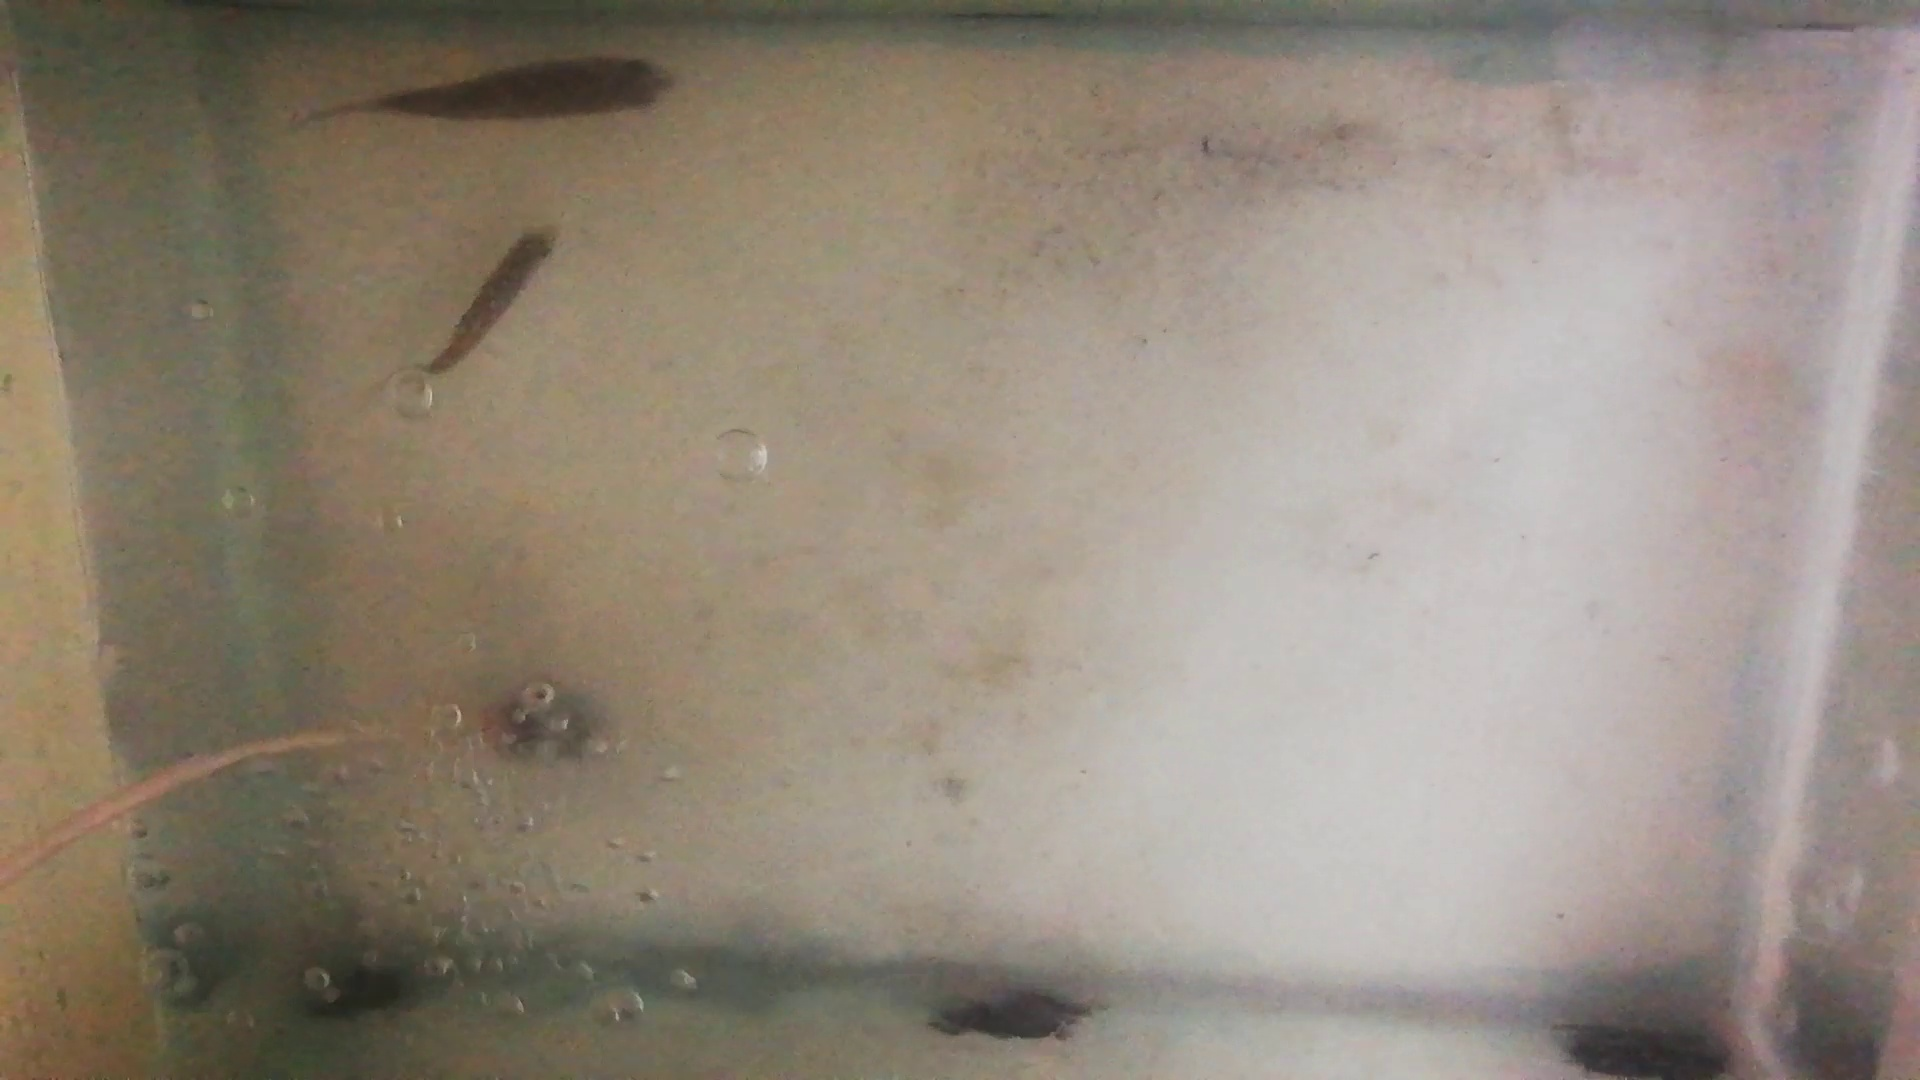fish: (342, 55, 675, 123), (417, 225, 563, 377)
